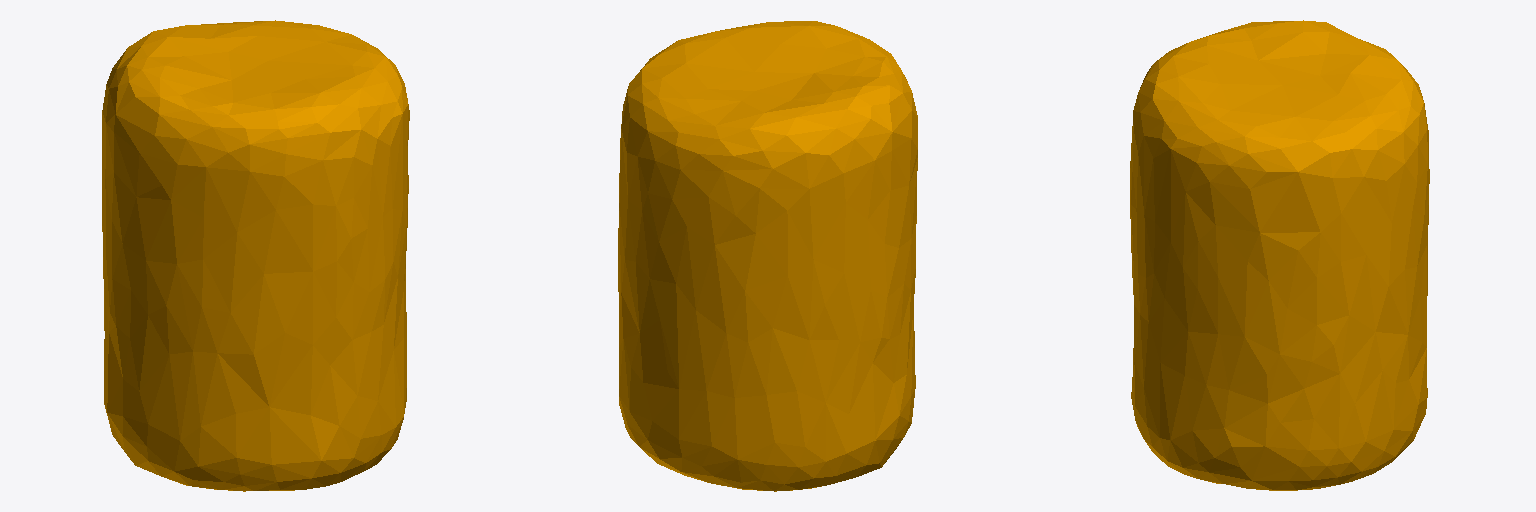
robot.urdf — tomato_soup_can:
<?xml version="1.0"?>
<robot name="tomato_soup_can">
  <link name="base_link">
    <contact>
      <lateral_friction value="1.0"/>
      <rolling_friction value="0.0"/>
      <contact_cfm value="0.0"/>
      <contact_erp value="1.0"/>
    </contact>
    <inertial>
      <mass value="0.243158425221"/>
      <inertia ixx="1" ixy="0" ixz="0" iyy="1" iyz="0" izz="1"/>
    </inertial>
    <visual>
      <geometry>
        <mesh filename="tomato_soup_can_visual.obj"/>
      </geometry>
    </visual>
    <collision>
      <geometry>
        <mesh filename="tomato_soup_can_collision.obj"/>
      </geometry>
    </collision>
  </link>
</robot>

--- Render facts (derived) ---
The picture shows the robot from 3 angles, left to right: view 1: azimuth 30°, elevation 25°; view 2: azimuth 150°, elevation 25°; view 3: azimuth 270°, elevation 25°; orthographic projection.
Robot: tomato_soup_can — 1 links, 0 joints (none); root link base_link; default pose: every joint at zero.
Links seen in each view (by area): view 1: base_link; view 2: base_link; view 3: base_link.
Boxes of the visible links, x1,y1,x2,y2 form: base_link: [102, 20, 409, 491]; base_link: [618, 21, 917, 491]; base_link: [1130, 20, 1429, 490].
Size in the robot's own frame: 0.0696 by 0.07 by 0.0987 metres.
Meshes: 1 distinct files referenced, 1 mesh visuals loaded (1 OBJ).
